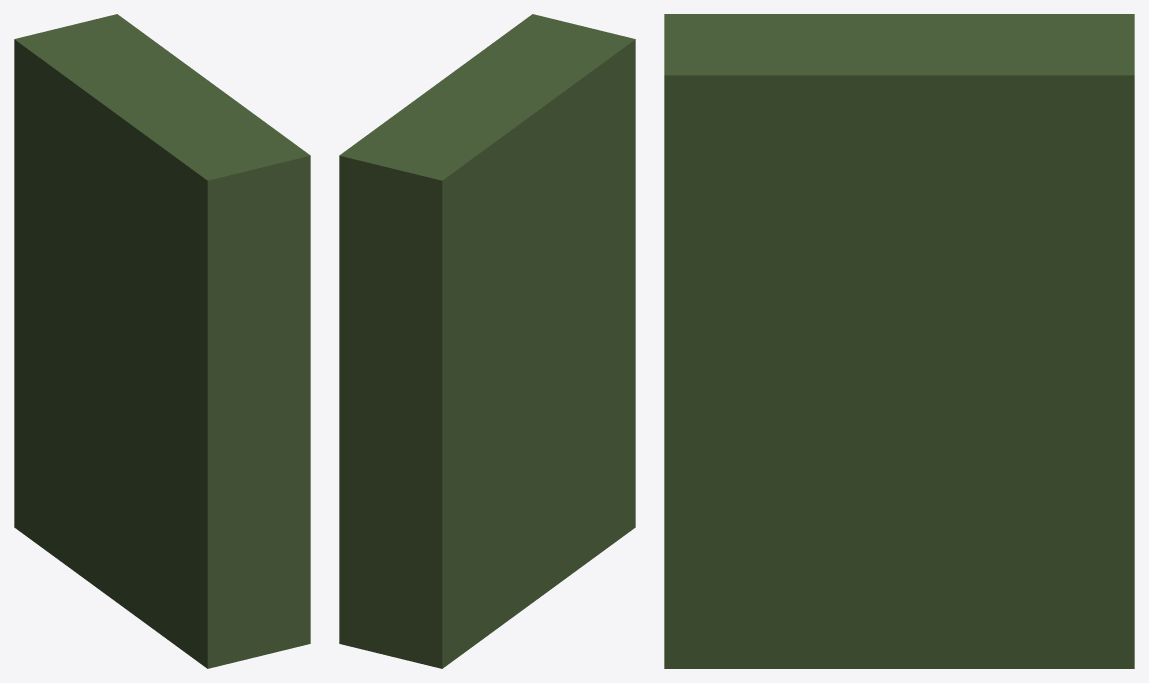
The model's file is Green Book.fbx.
The picture shows the model from 3 angles, left to right: view 1: azimuth 30°, elevation 25°; view 2: azimuth 150°, elevation 25°; view 3: azimuth 270°, elevation 25°; orthographic projection. The views are drawn at different scales.
Parts seen in each view (by area): view 1: Green Book; view 2: Green Book; view 3: Green Book.
Part boxes in pixels (x1,y1,x2,y2): Green Book: [14, 14, 310, 668]; Green Book: [339, 14, 635, 668]; Green Book: [664, 14, 1134, 668].
Size of the model in its own units: 0.0501 by 0.2265 by 0.1627.
